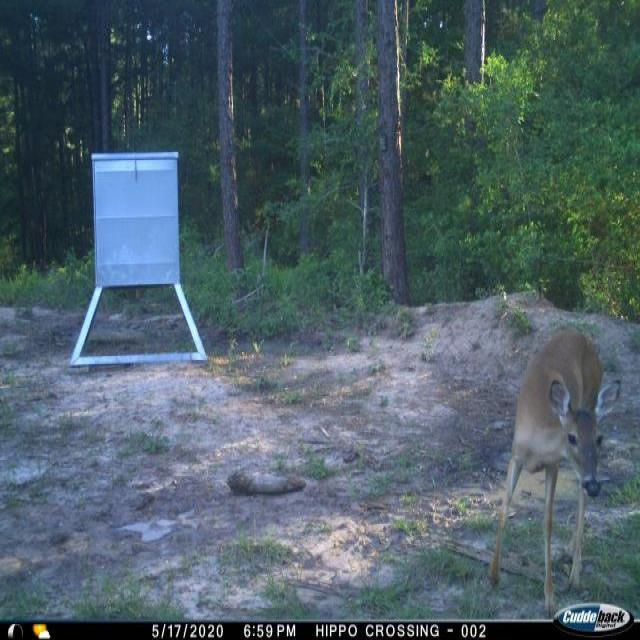deer: (484, 327, 624, 616)
